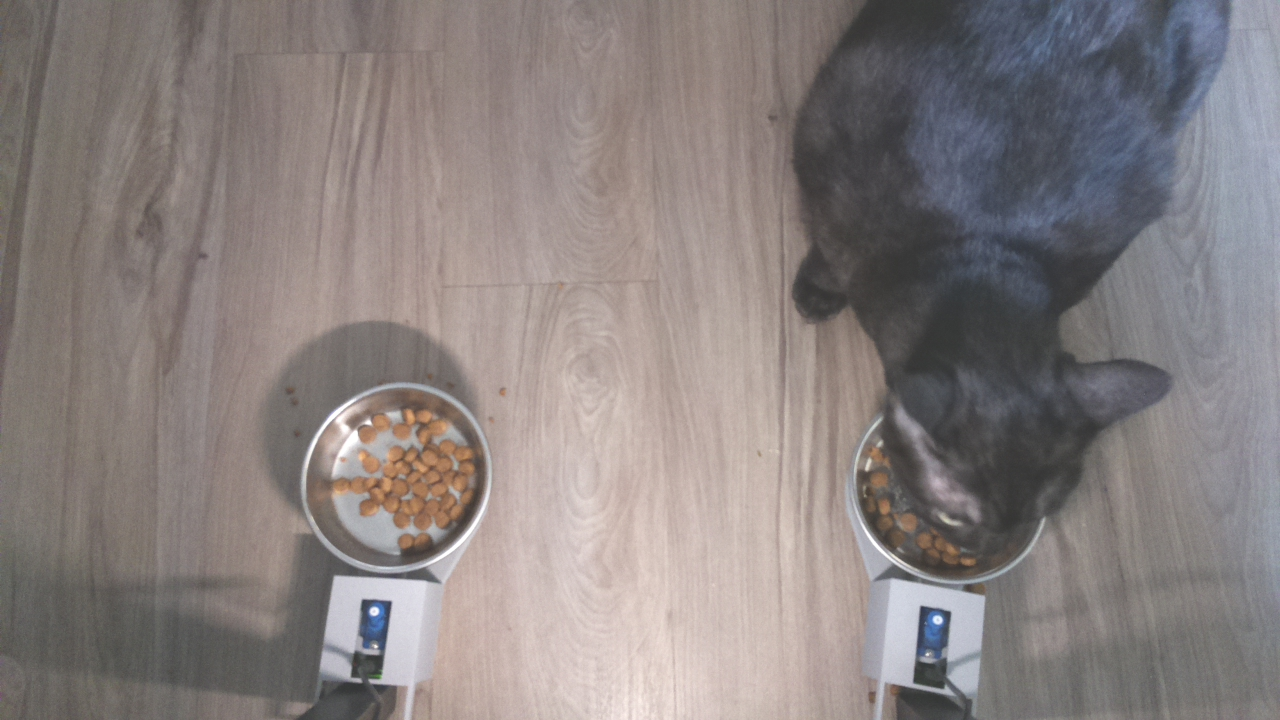open_bowl: (293, 375, 501, 582)
saki_eating: (843, 304, 1176, 577)
